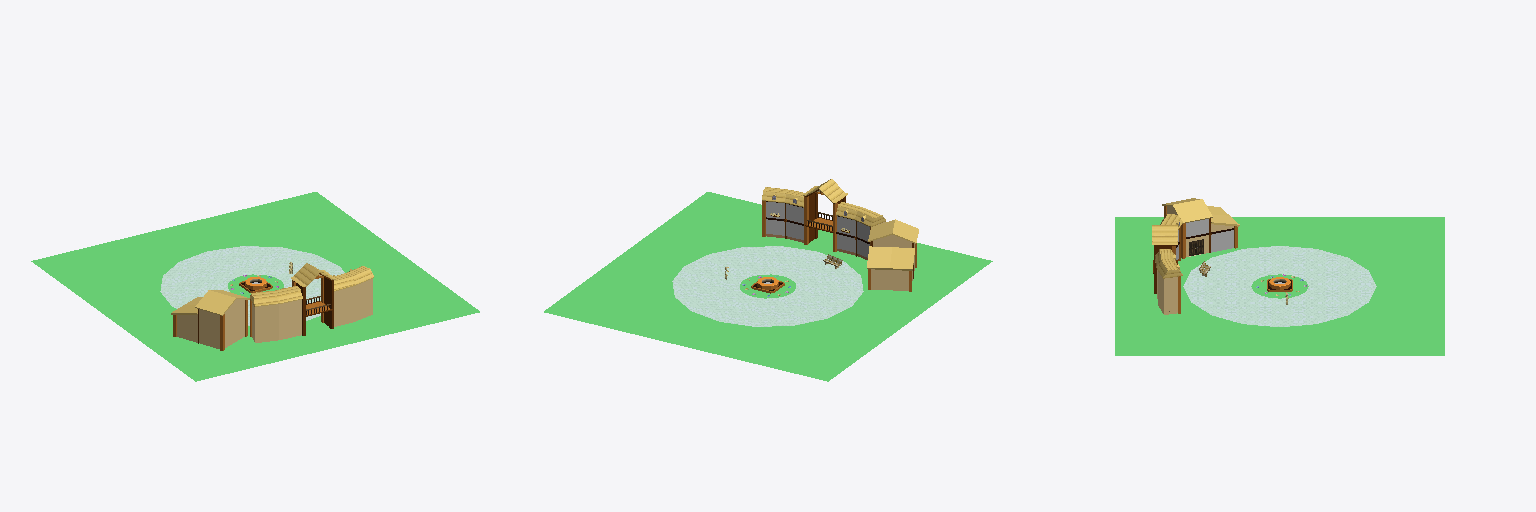
3 renders of one model, left to right at view 1: azimuth 30°, elevation 25°; view 2: azimuth 150°, elevation 25°; view 3: azimuth 270°, elevation 25°, orthographic.
Parts seen in each view (by area): view 1: Plane.006, Plane, Circle.002, Cube.001; view 2: Plane.006, Circle.002, Plane, Cube.001; view 3: Plane.006, Circle.002, Cube.001, Plane.
Boxes of the visible parts, <box> form: Plane.006: <box>31,192,479,381</box>; Plane: <box>250,263,373,342</box>; Circle.002: <box>160,246,344,325</box>; Cube.001: <box>171,290,249,350</box>; Plane.006: <box>544,192,992,381</box>; Circle.002: <box>672,246,863,326</box>; Plane: <box>762,179,885,259</box>; Cube.001: <box>867,219,918,291</box>; Plane.006: <box>1115,217,1444,355</box>; Circle.002: <box>1183,246,1376,326</box>; Cube.001: <box>1162,198,1239,258</box>; Plane: <box>1152,214,1182,314</box>.
Bounding box in the file's own units: 40.24 × 8.25 × 40.24.
Materials: 20 (10 with a texture image).